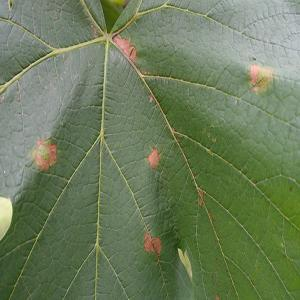Folha: (1, 0, 299, 299)
Fungo: (30, 138, 57, 170), (248, 63, 274, 95), (112, 34, 137, 65), (143, 231, 162, 257), (147, 146, 161, 169), (47, 142, 57, 164), (144, 231, 154, 252), (151, 236, 162, 255), (249, 64, 259, 84), (90, 22, 99, 38), (198, 188, 204, 206), (148, 93, 152, 103), (253, 179, 257, 184)
